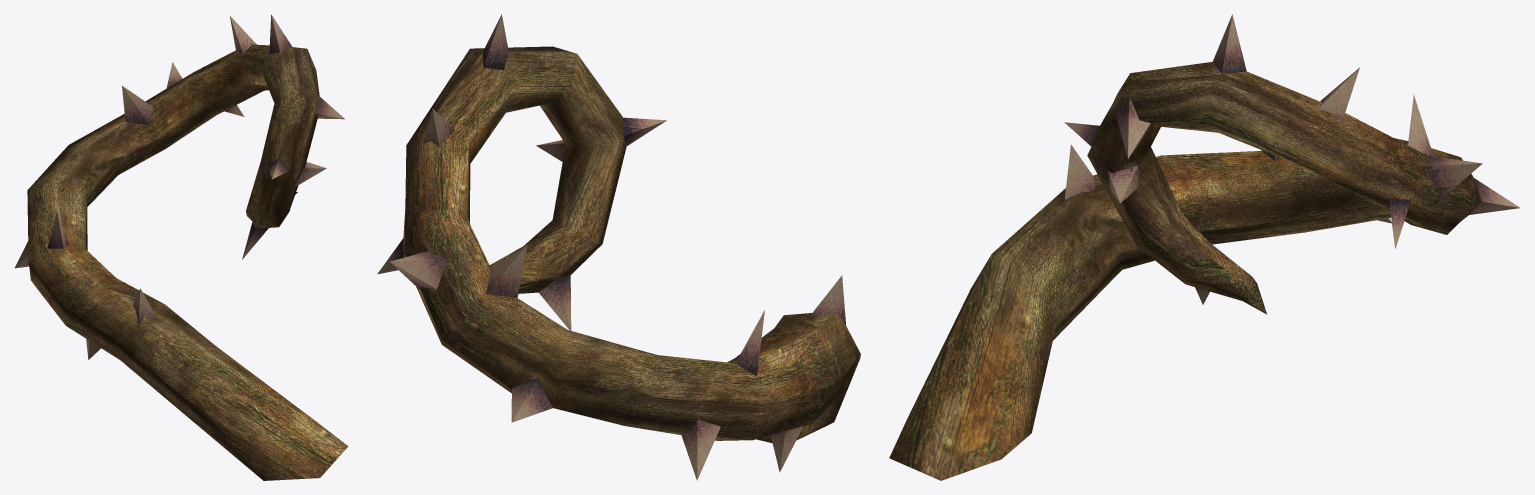
The model's file is obj_mtthund_thorn05a.fbx.
3 views of the same model, side by side, from view 1: azimuth 30°, elevation 25°; view 2: azimuth 150°, elevation 25°; view 3: azimuth 270°, elevation 25° (orthographic). The views are drawn at different scales.
Parts seen in each view (by area): view 1: obj_mtthund_thorn05A; view 2: obj_mtthund_thorn05A; view 3: obj_mtthund_thorn05A.
Boxes of the visible parts, bbox=[...] form: obj_mtthund_thorn05A: bbox=[15, 14, 348, 480]; obj_mtthund_thorn05A: bbox=[377, 14, 860, 480]; obj_mtthund_thorn05A: bbox=[889, 14, 1519, 480].
Bounding box in the file's own units: 6.07 × 7.82 × 9.05.
